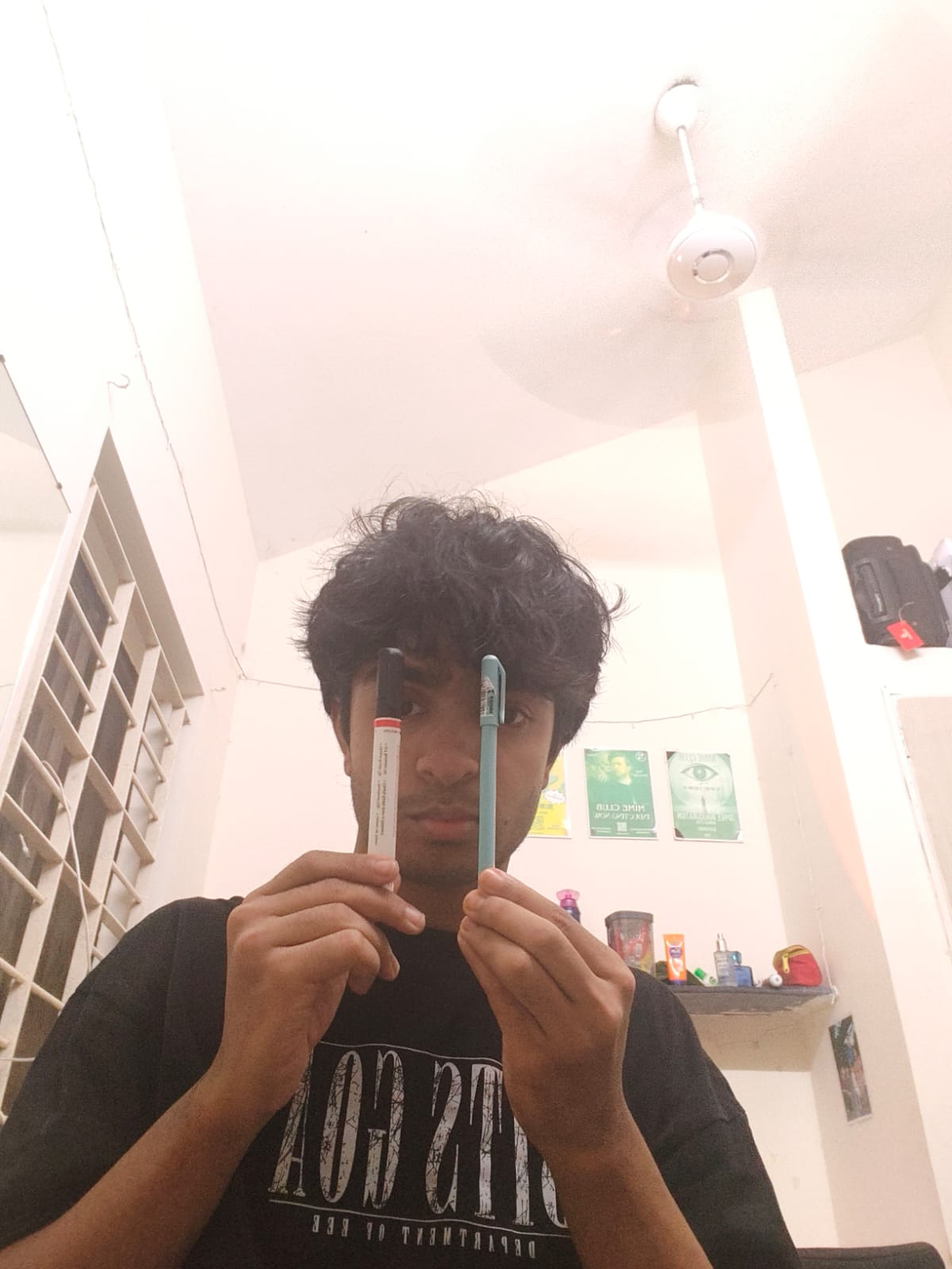case: (371, 638, 407, 883)
pen: (471, 648, 513, 880)
